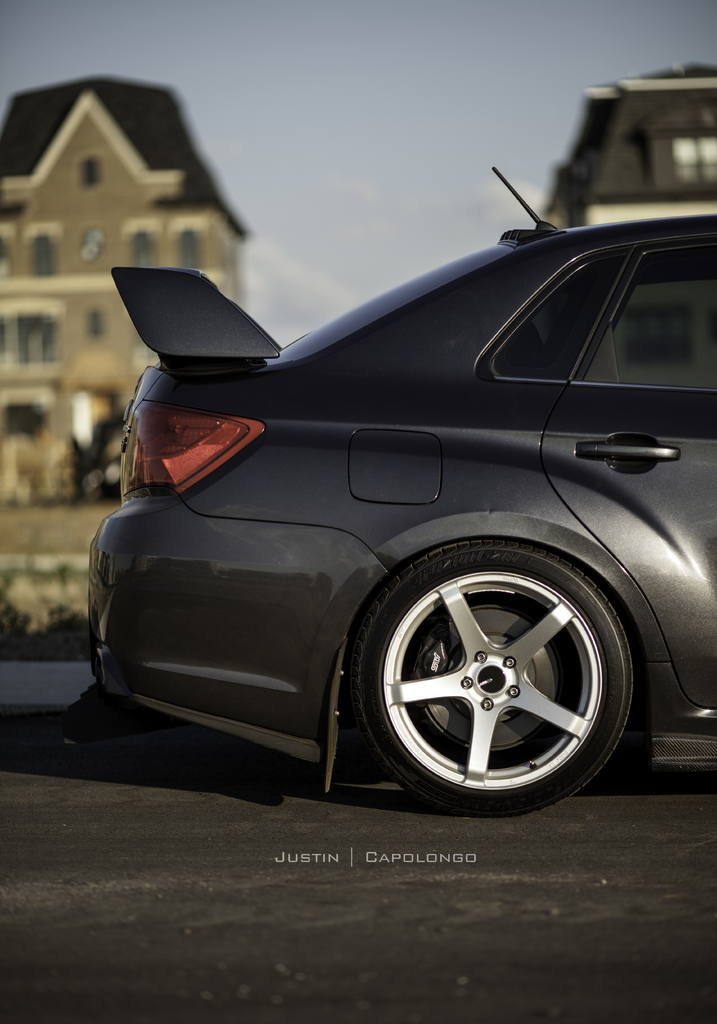Car: (86, 165, 716, 821)
